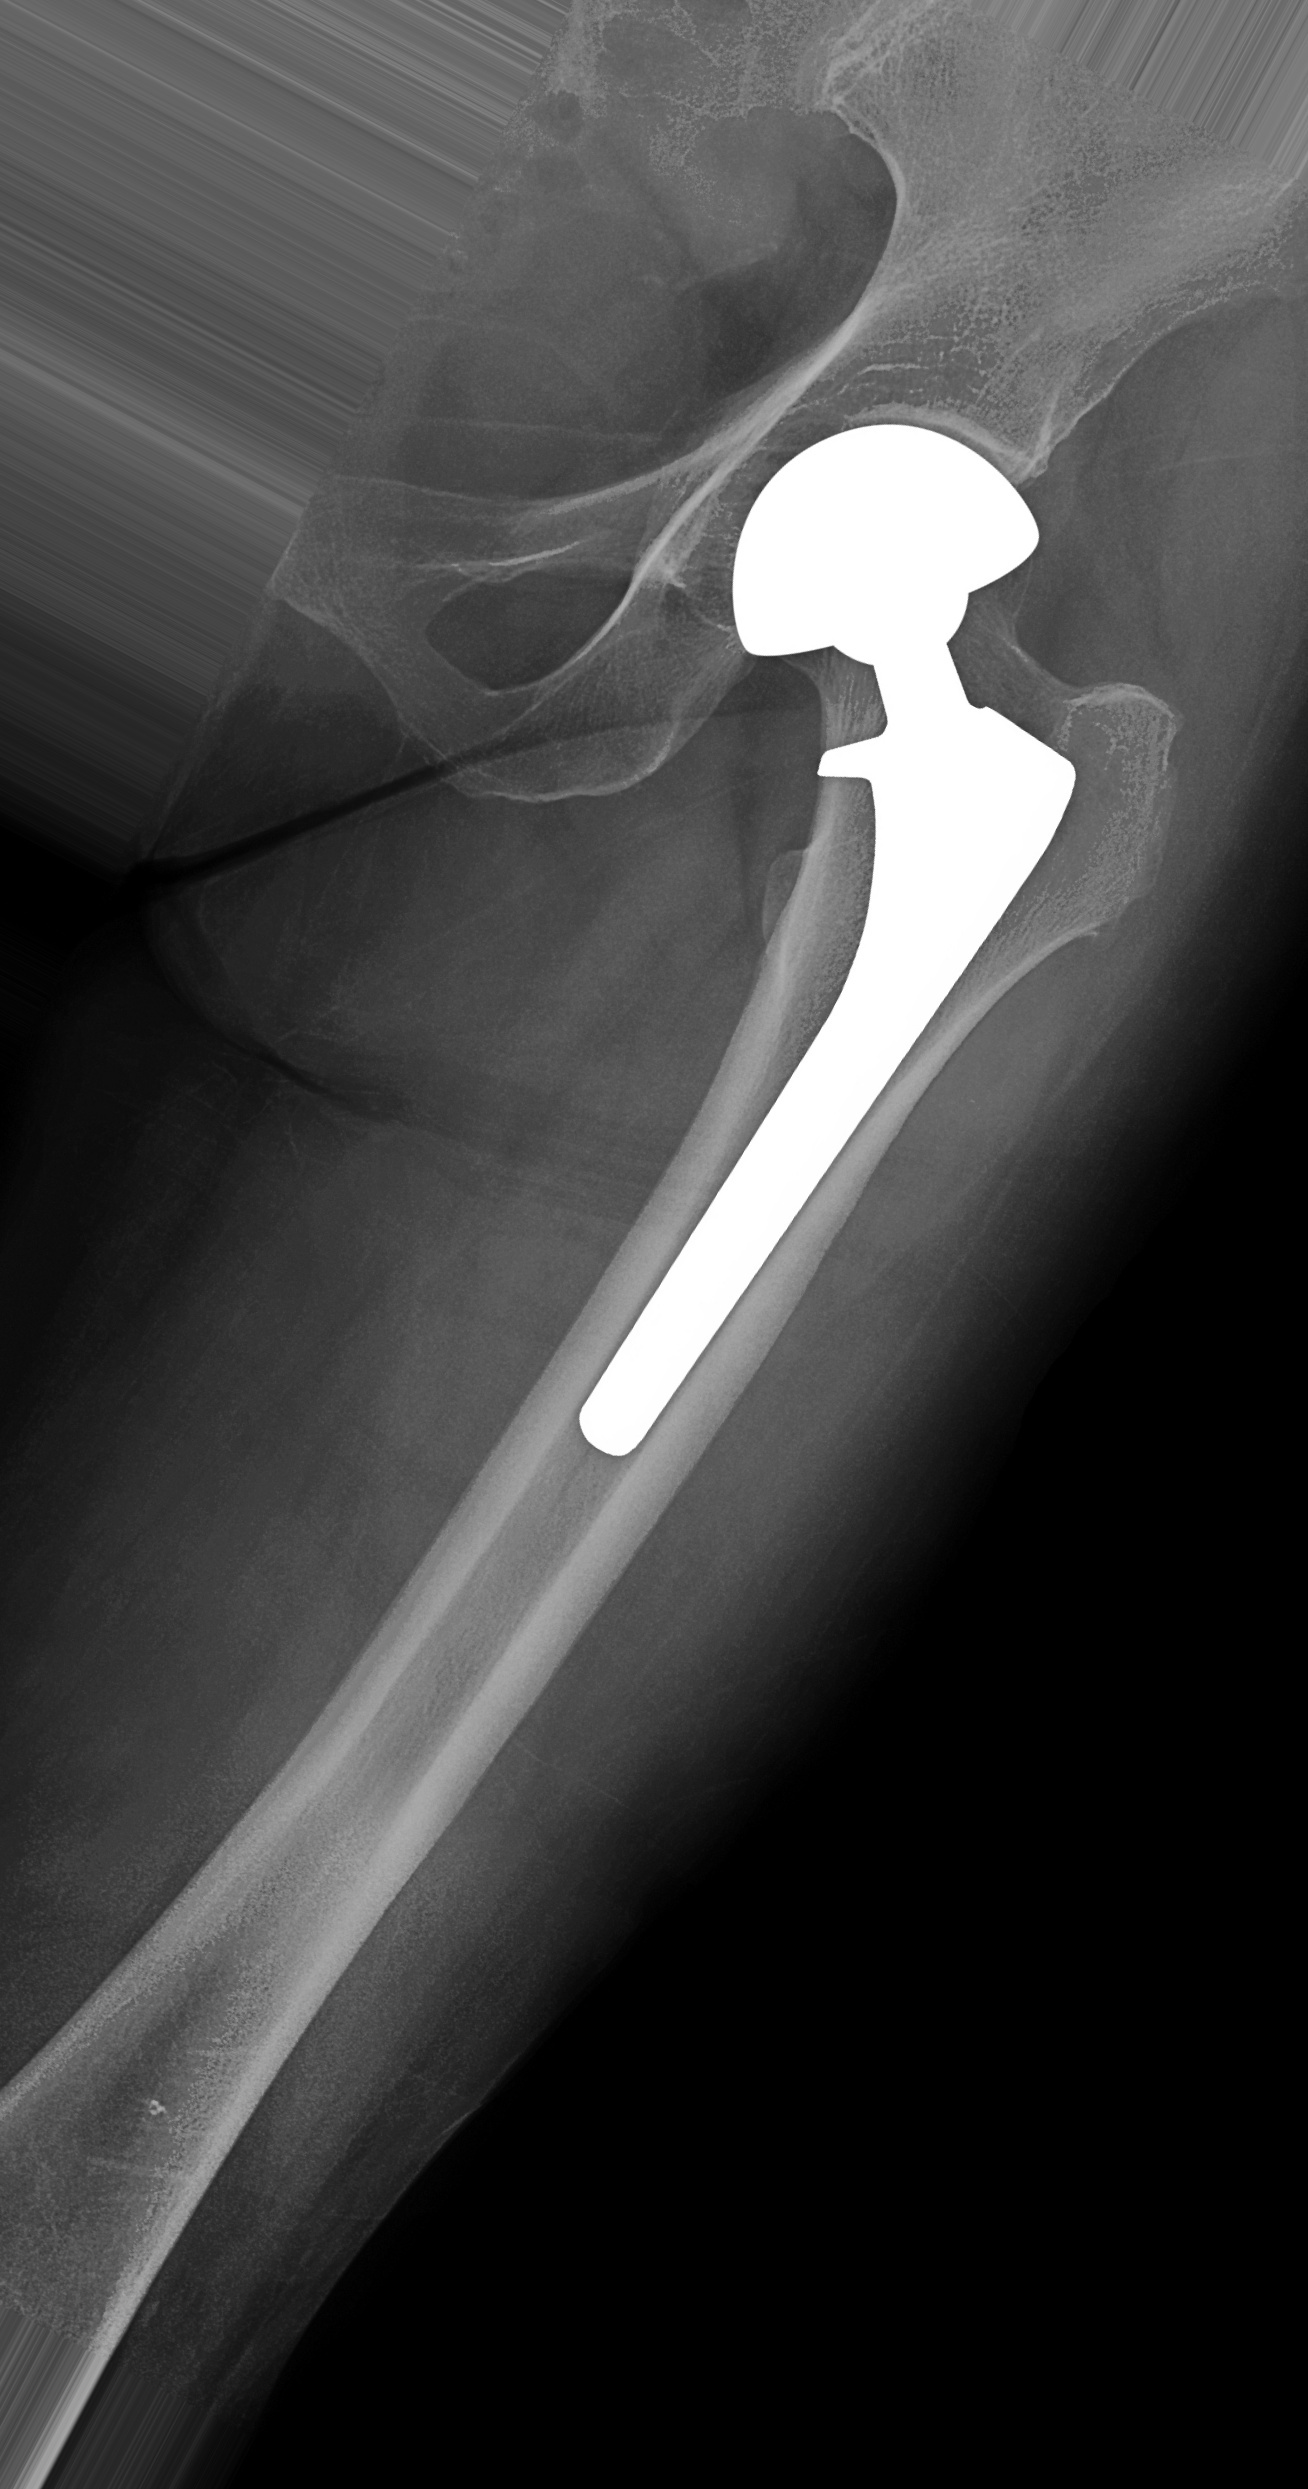Hip - APR - Zimmer: (558, 415, 1088, 1467)
